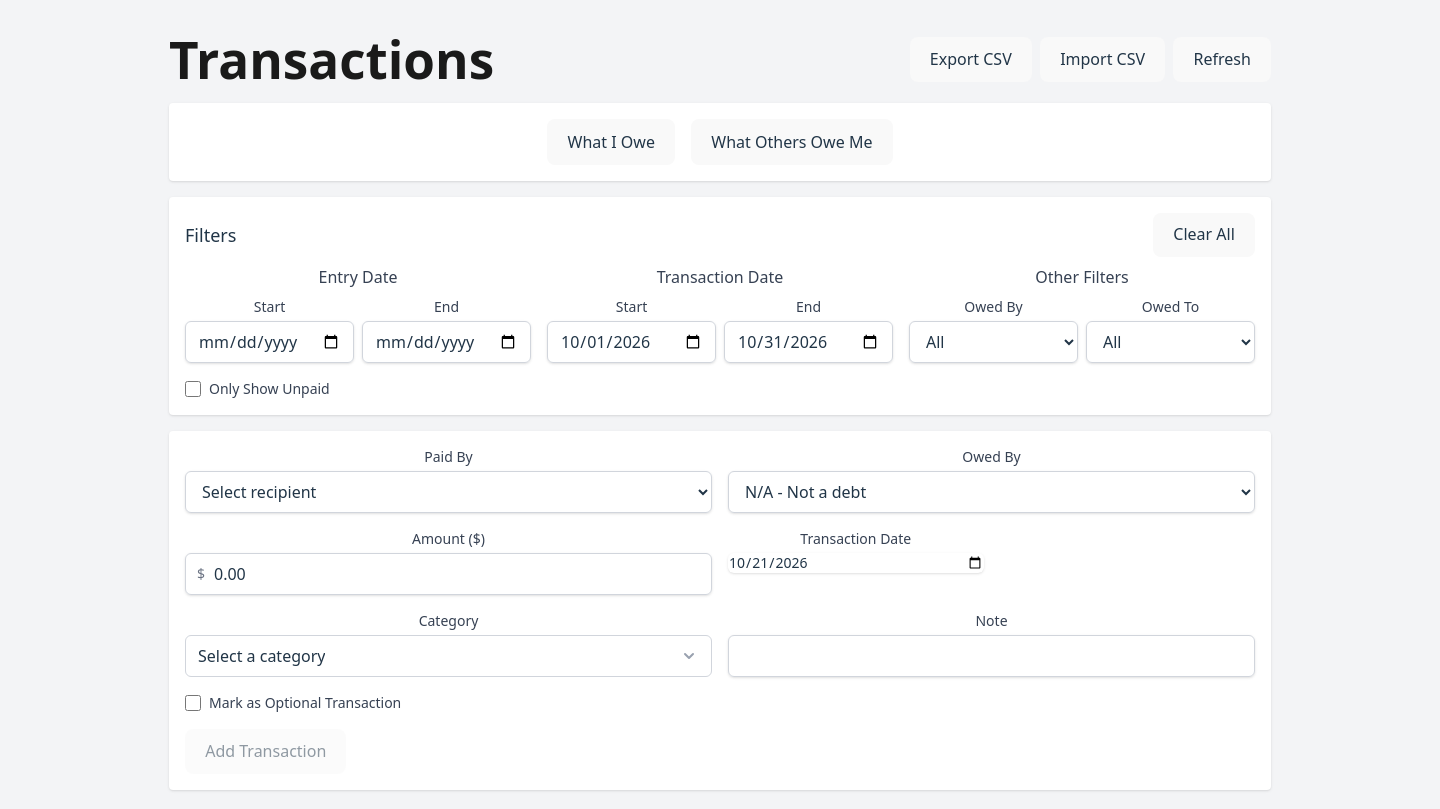
Scenario: TransactionsPage › View Mode Filtering › should filter out transactions where owedBy equals current user in othersOwe mode
Note: Click "What Others Owe Me"
Click the button "What Others Owe Me".
click(792, 142)  # box 691,119 -> 893,164
(page scrolled)
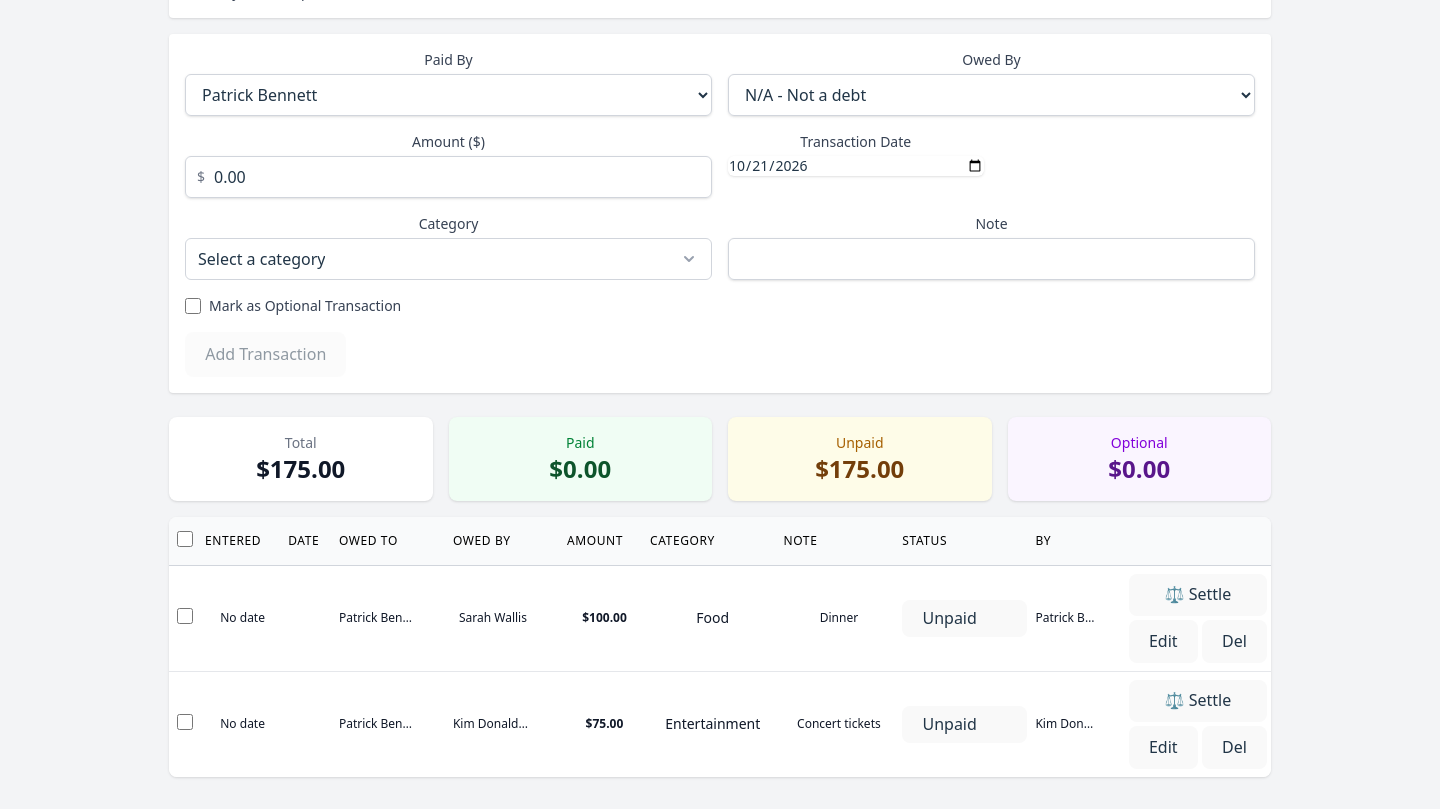
expect the text "Concert tickets" is shown: met, box 797,715 -> 881,732
